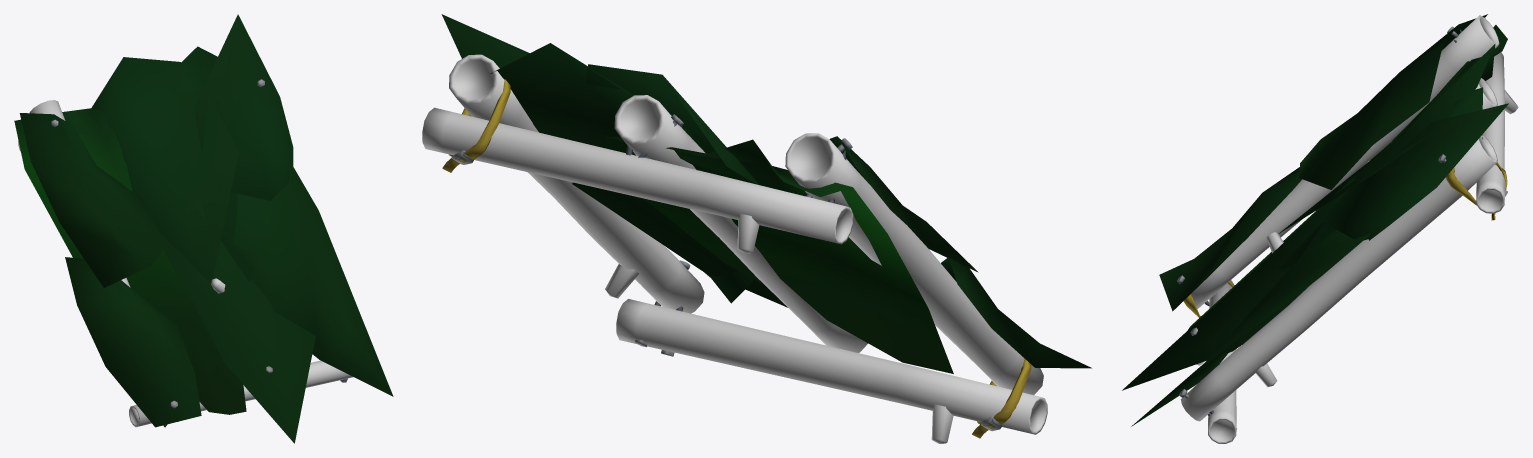
Rendered from RaftLeafRoof.fbx.
3 renders of one model, left to right at view 1: azimuth 30°, elevation 25°; view 2: azimuth 150°, elevation 25°; view 3: azimuth 270°, elevation 25°, orthographic. The views are drawn at different scales.
Visible parts, largest first — view 1: obj_harvests_trees_spruce03_p05; view 2: obj_harvests_trees_spruce03_p05; view 3: obj_harvests_trees_spruce03_p05.
Boxes of the visible parts, x1,y1,x2,y2 form: obj_harvests_trees_spruce03_p05: (14,14,393,443); obj_harvests_trees_spruce03_p05: (422,14,1091,443); obj_harvests_trees_spruce03_p05: (1122,14,1518,443).
Size of the model in its own units: 4.68 by 5.14 by 5.3.
